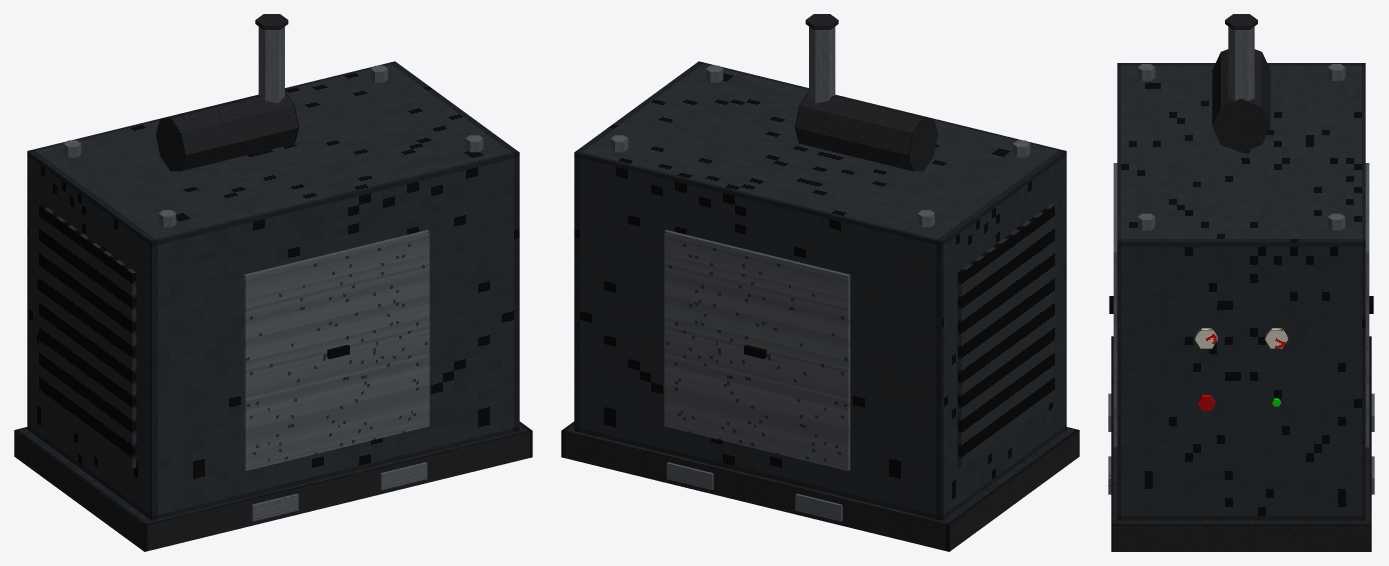
The model's file is generator_unit.glb.
3 views of the same model, side by side, from view 1: azimuth 30°, elevation 25°; view 2: azimuth 150°, elevation 25°; view 3: azimuth 270°, elevation 25° (orthographic).
Visible parts, largest first — view 1: generator_unit; view 2: generator_unit; view 3: generator_unit.
Part boxes in pixels (left/top/right/bottom): generator_unit: left=14, top=14, right=532, bottom=551; generator_unit: left=561, top=14, right=1079, bottom=551; generator_unit: left=1108, top=14, right=1374, bottom=551.
Size of the model in its own units: 1.53 by 1.65 by 0.91.
1 material, 1 textured.
